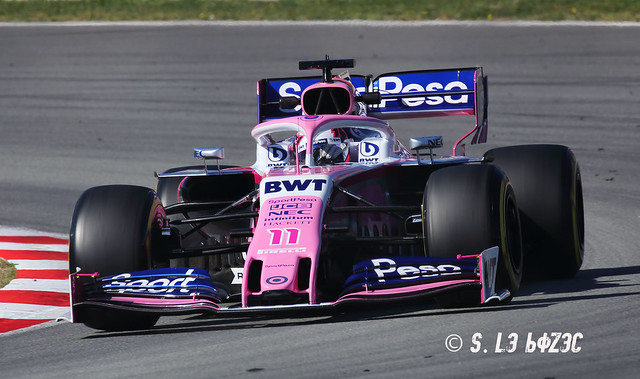F1 Car: (63, 53, 594, 335)
